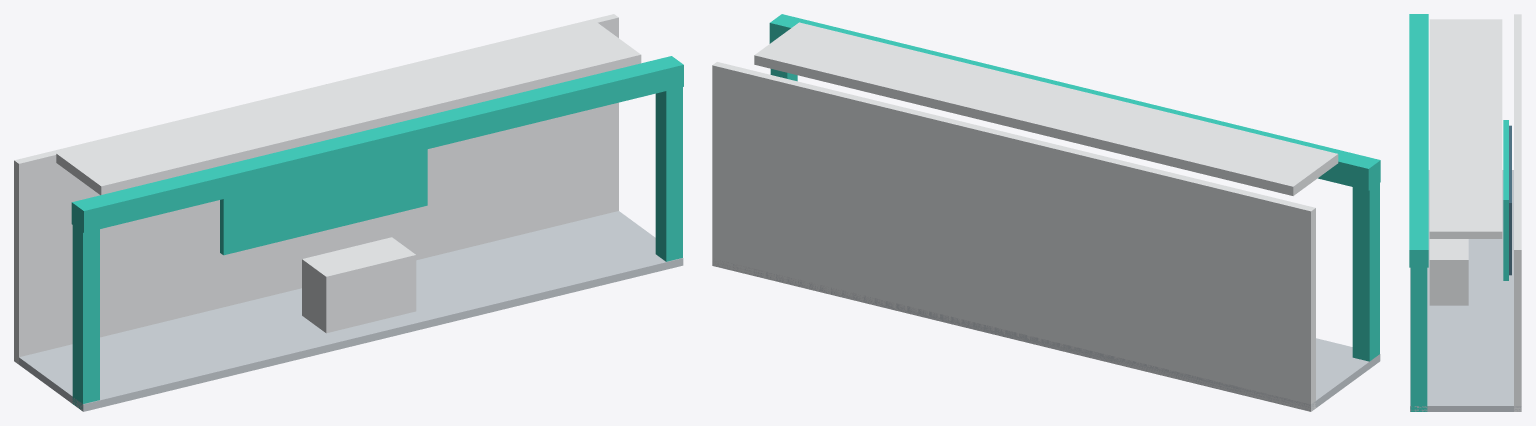
3 views of the same model, side by side, from view 1: azimuth 30°, elevation 25°; view 2: azimuth 150°, elevation 25°; view 3: azimuth 270°, elevation 25° (orthographic). The views are drawn at different scales.
Visible parts, largest first — view 1: Exhibition Booth Concept; view 2: Exhibition Booth Concept; view 3: Exhibition Booth Concept.
Boxes of the visible parts, <box> form: Exhibition Booth Concept: <box>14,14,683,411</box>; Exhibition Booth Concept: <box>712,14,1380,411</box>; Exhibition Booth Concept: <box>1409,14,1521,411</box>.
Bounding box in the file's own units: 10 × 3.34 × 2.01.
